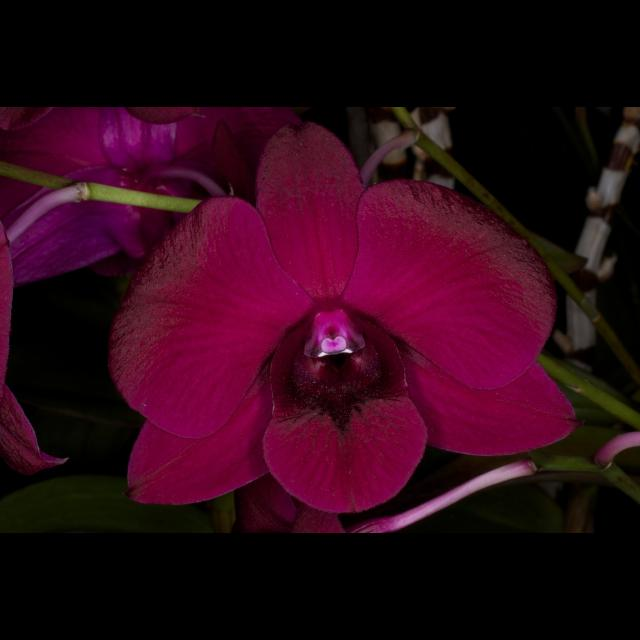Flower: (94, 138, 568, 510)
